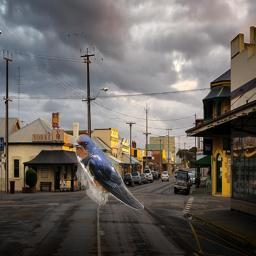Swallow: (73, 134, 144, 210)
